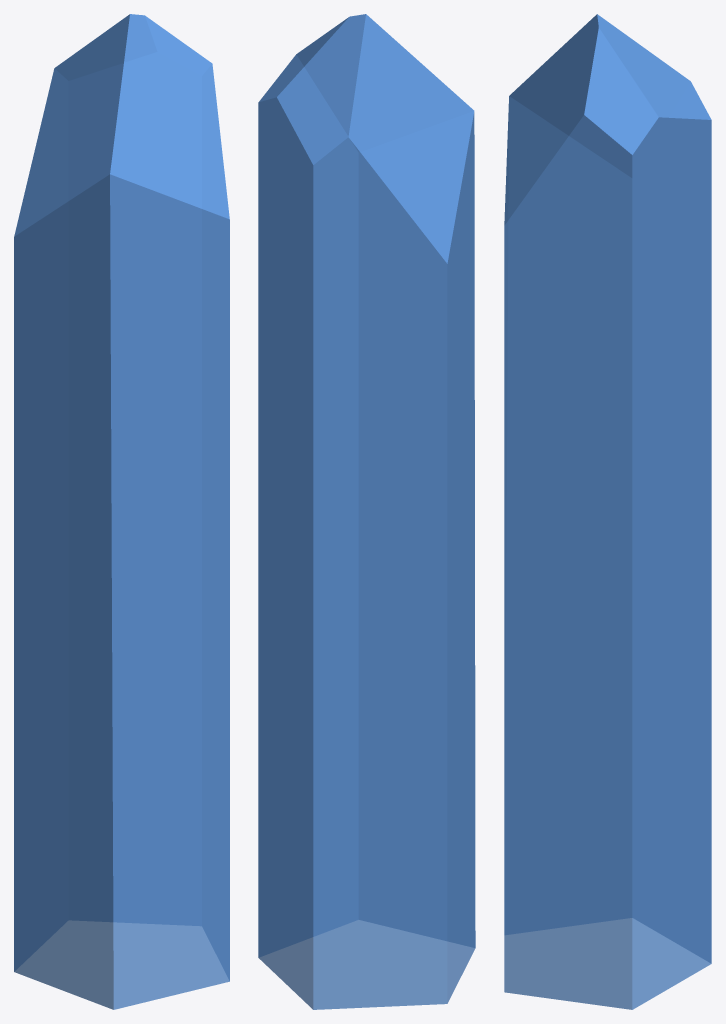
File: Crystal_s_04.fbx
3 views of the same model, side by side, from view 1: azimuth 30°, elevation 25°; view 2: azimuth 150°, elevation 25°; view 3: azimuth 270°, elevation 25° (orthographic).
Parts seen in each view (by area): view 1: Crystal_s_04; view 2: Crystal_s_04; view 3: Crystal_s_04.
Boxes of the visible parts, x1,y1,x2,y2 form: Crystal_s_04: [14, 14, 229, 1009]; Crystal_s_04: [258, 14, 475, 1009]; Crystal_s_04: [504, 14, 711, 1009].
Size of the model in its own units: 21.22 by 102 by 20.18.
